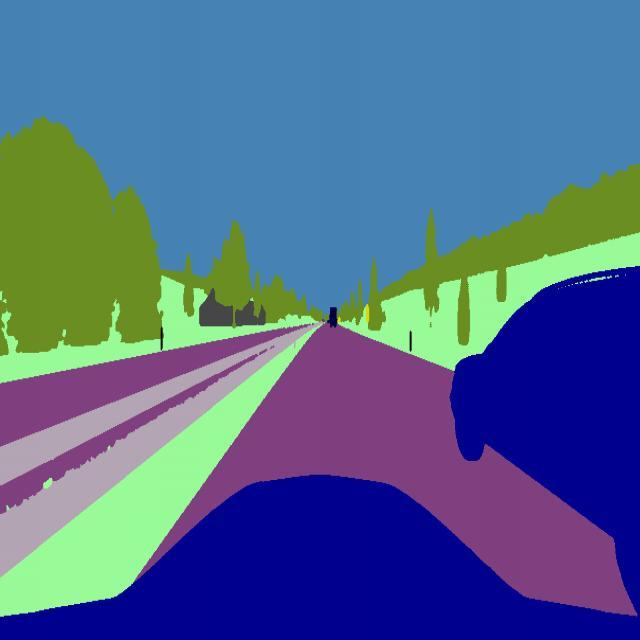unsafe: (447, 263, 640, 634)
